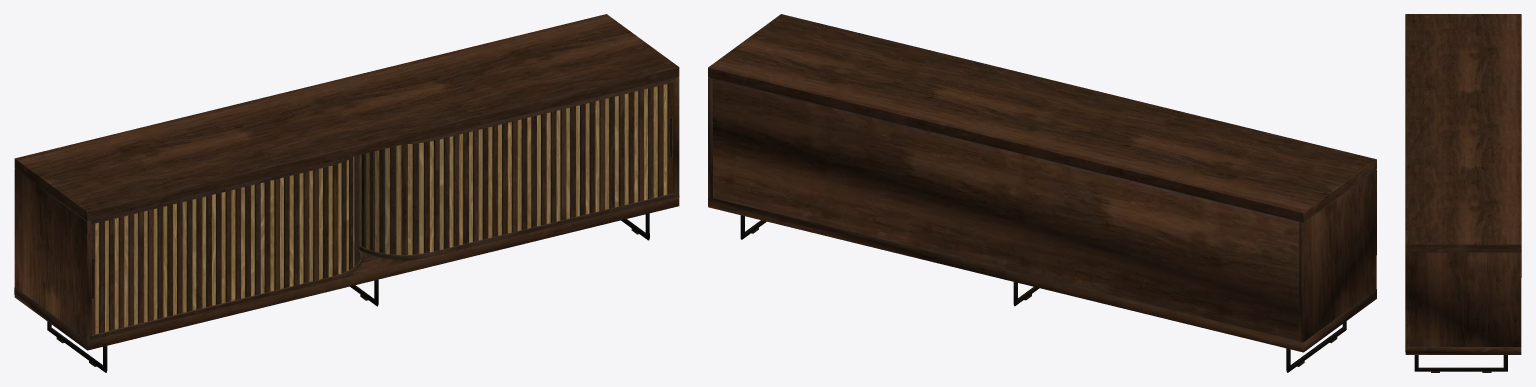
File: modern_wooden_cabinet.glb
3 views of the same model, side by side, from view 1: azimuth 30°, elevation 25°; view 2: azimuth 150°, elevation 25°; view 3: azimuth 270°, elevation 25° (orthographic). The views are drawn at different scales.
Visible parts, largest first — view 1: modern_wooden_cabinet_body, modern_wooden_cabinet_door_r, modern_wooden_cabinet_door_l; view 2: modern_wooden_cabinet_body; view 3: modern_wooden_cabinet_body.
Boxes of the visible parts, x1=… form: modern_wooden_cabinet_body: x1=14, y1=14, x2=679, y2=372; modern_wooden_cabinet_door_r: x1=359, y1=82, x2=673, y2=254; modern_wooden_cabinet_door_l: x1=91, y1=155, x2=359, y2=334; modern_wooden_cabinet_body: x1=708, y1=14, x2=1376, y2=372; modern_wooden_cabinet_body: x1=1405, y1=14, x2=1521, y2=372.
Bounding box in the file's own units: 2.44 × 0.6801 × 0.5201.
Materials: 1 (1 with a texture image).
